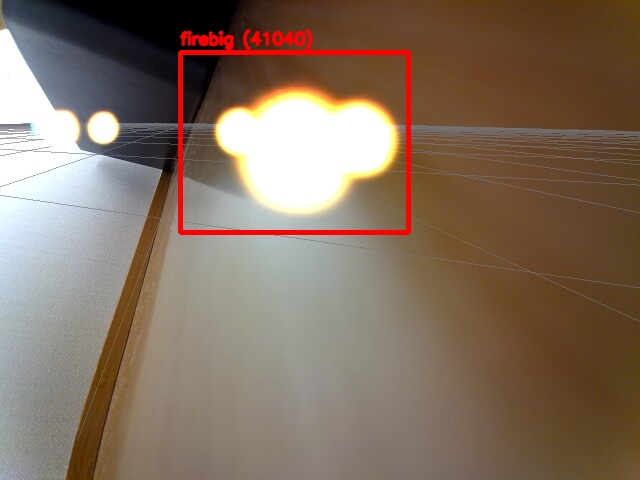firebig: (180, 52, 408, 232)
